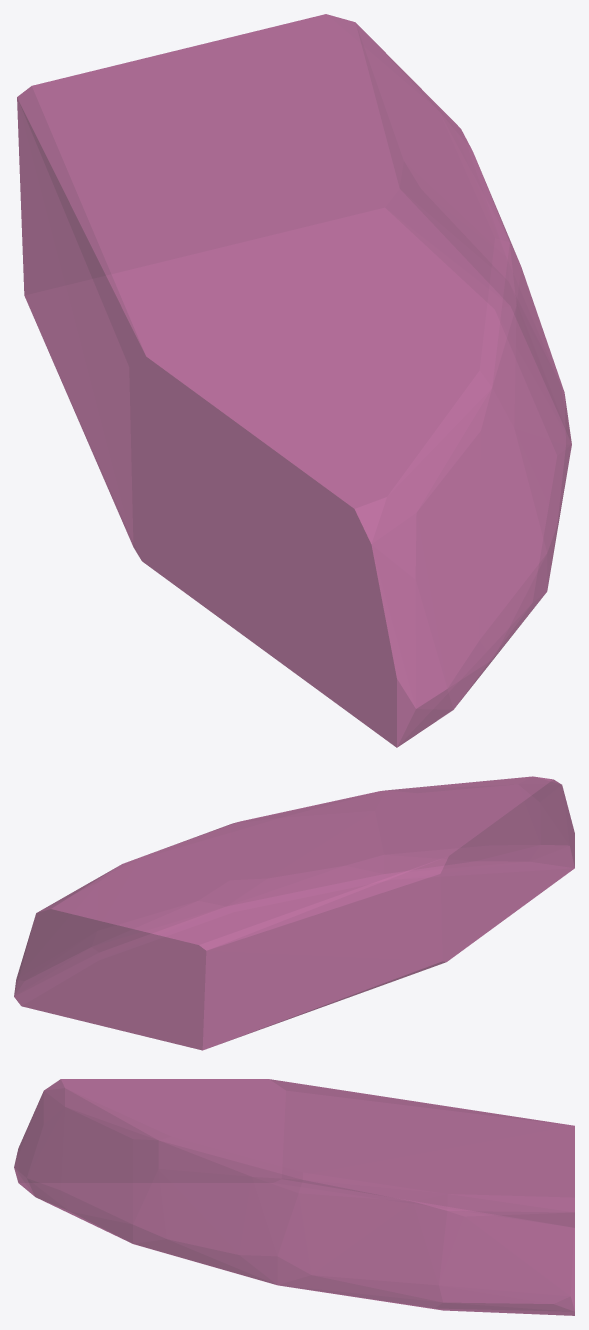
3 views of the same model, one above another, from view 1: azimuth 30°, elevation 25°; view 2: azimuth 150°, elevation 25°; view 3: azimuth 270°, elevation 25° (orthographic). The views are drawn at different scales.
Parts seen in each view (by area): view 1: Shape_IndexedFaceSet.007_Shape_IndexedFaceSet.1229; view 2: Shape_IndexedFaceSet.007_Shape_IndexedFaceSet.1229; view 3: Shape_IndexedFaceSet.007_Shape_IndexedFaceSet.1229.
Boxes of the visible parts, bbox=[...] form: Shape_IndexedFaceSet.007_Shape_IndexedFaceSet.1229: bbox=[17, 14, 571, 747]; Shape_IndexedFaceSet.007_Shape_IndexedFaceSet.1229: bbox=[14, 776, 574, 1050]; Shape_IndexedFaceSet.007_Shape_IndexedFaceSet.1229: bbox=[14, 1079, 574, 1315].
Size of the model in its own units: 0.1514 by 0.0538 by 0.2629.
